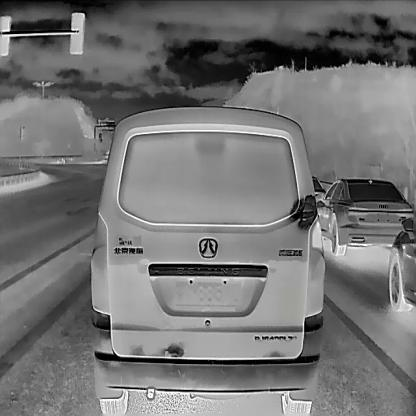car: (89, 104, 324, 415), (311, 176, 414, 254), (386, 213, 415, 312)
